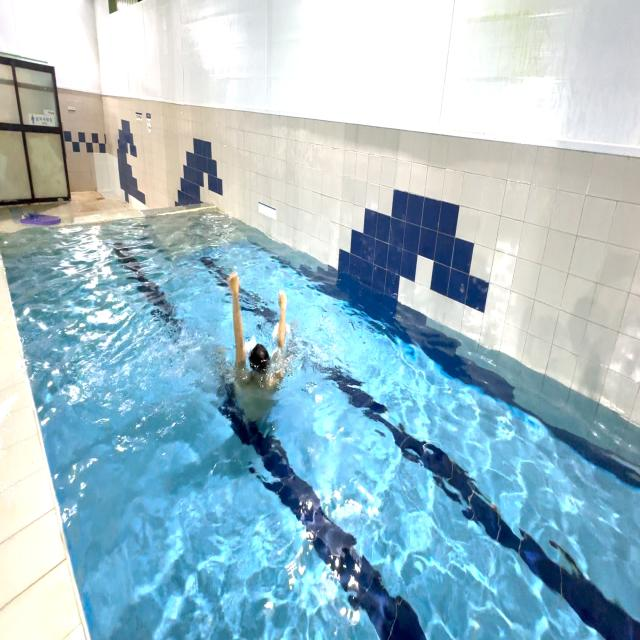Drowning: (208, 243, 302, 456)
